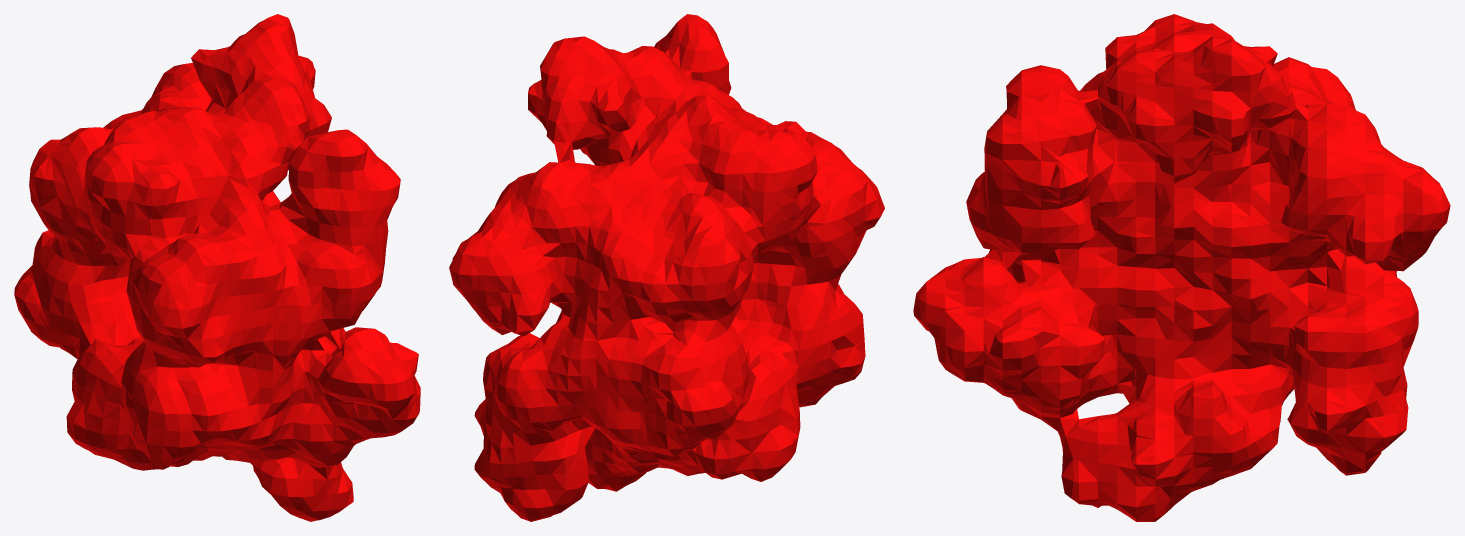
The model's file is rho_coarse.dae.
3 renders of one model, left to right at view 1: azimuth 30°, elevation 25°; view 2: azimuth 150°, elevation 25°; view 3: azimuth 270°, elevation 25°, orthographic. The views are drawn at different scales.
Visible parts, largest first — view 1: rho; view 2: rho; view 3: rho.
Part boxes in pixels (x1=…): rho: x1=14, y1=14, x2=420, y2=521; rho: x1=449, y1=14, x2=884, y2=521; rho: x1=913, y1=14, x2=1450, y2=521.
Bounding box in the file's own units: 82.08 × 139 × 140.
